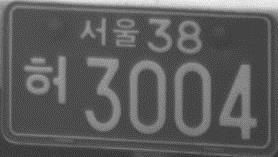0: (173, 60, 213, 138), (129, 58, 168, 135)
3: (84, 55, 123, 133), (148, 16, 172, 54)
4: (216, 62, 259, 140)
8: (176, 18, 203, 55)
서울_O: (79, 16, 139, 49)
허: (23, 53, 68, 105)
